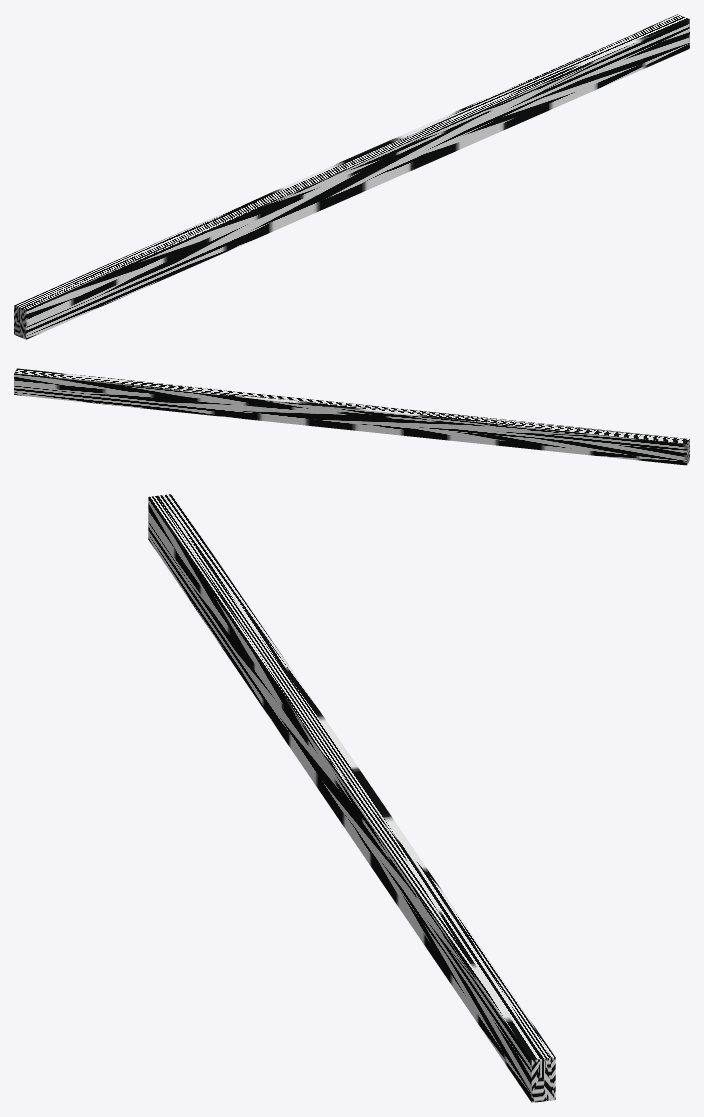
The picture shows the model from 3 angles, top to bottom: view 1: azimuth 30°, elevation 25°; view 2: azimuth 150°, elevation 25°; view 3: azimuth 270°, elevation 25°; orthographic projection. The views are drawn at different scales.
Visible parts, largest first — view 1: Cube.037; view 2: Cube.037; view 3: Cube.037.
Boxes of the visible parts, x1,y1,x2,y2 form: Cube.037: [14, 14, 689, 339]; Cube.037: [14, 368, 689, 465]; Cube.037: [148, 494, 555, 1102].
Bounding box in the file's own units: 7.4 × 0.2606 × 2.25.
1 material, 1 textured.
